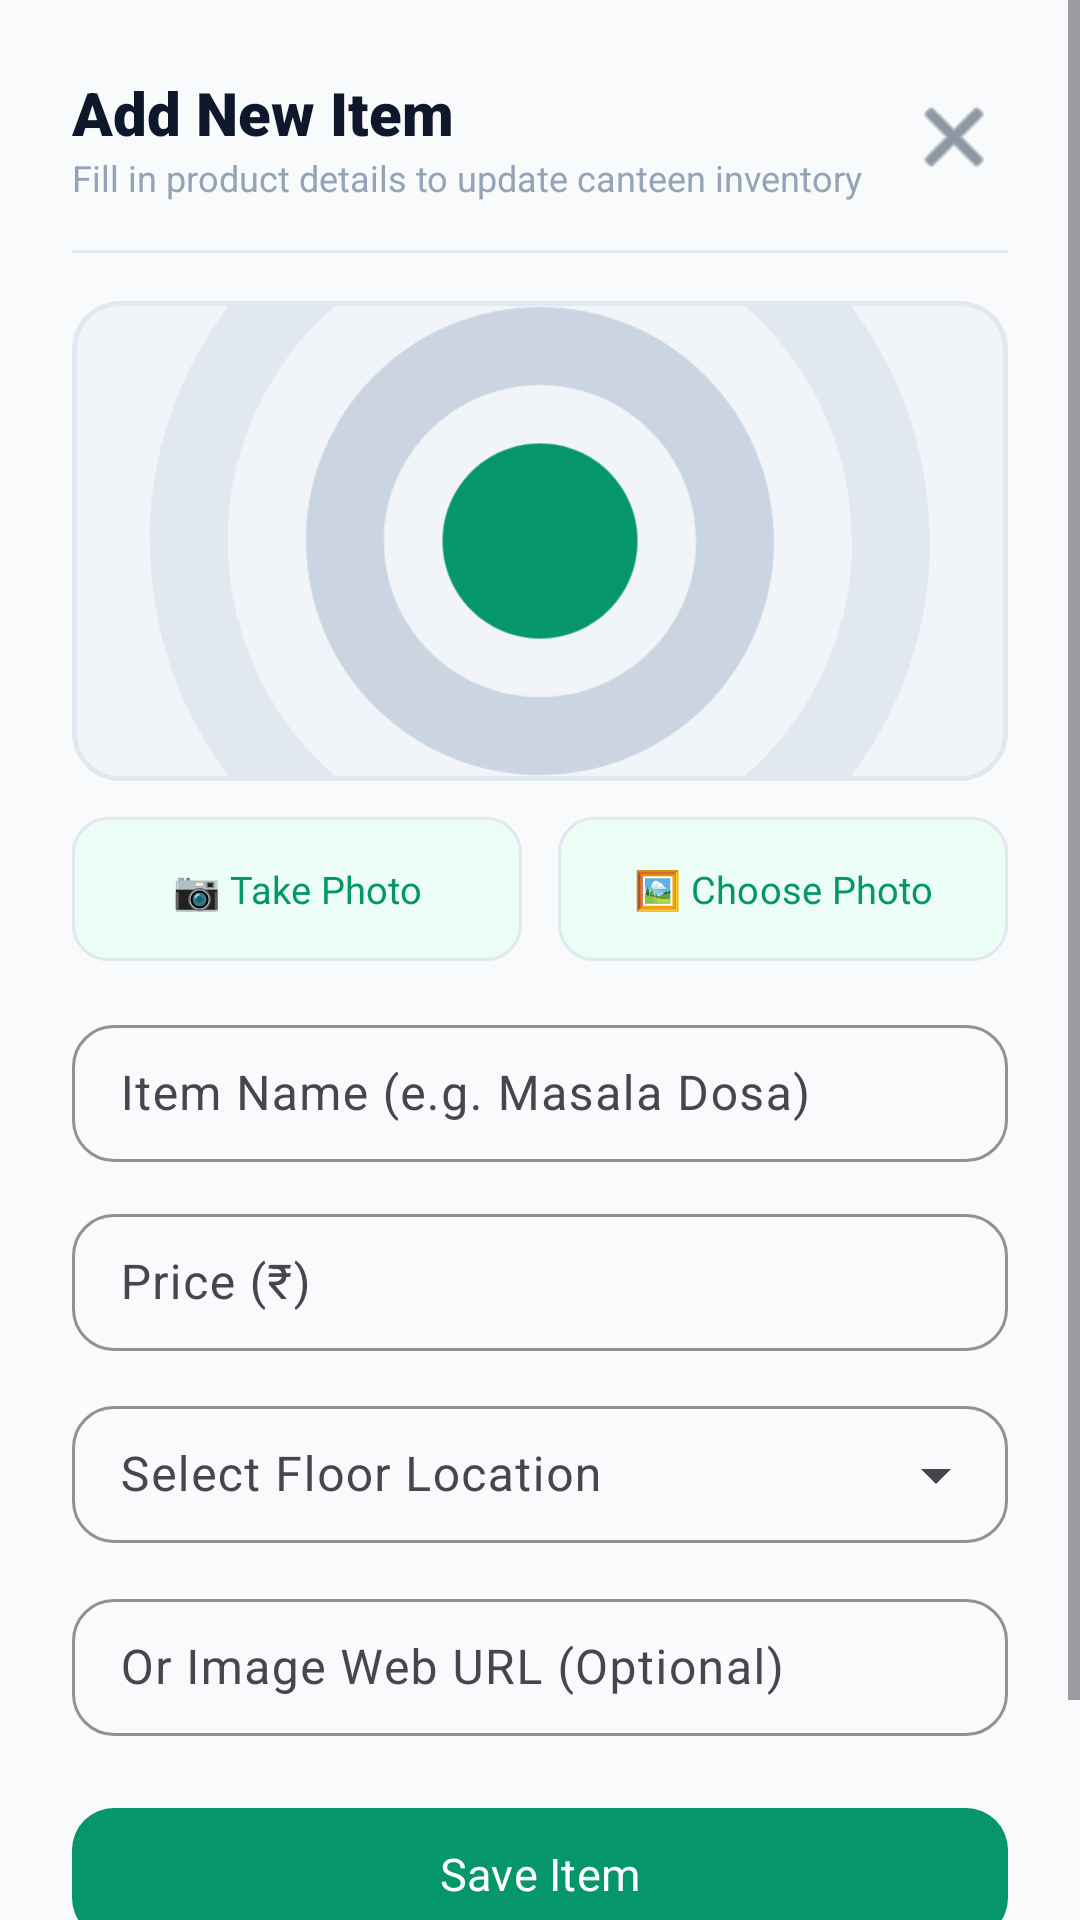

Icon click points for this 1080 × 1920 phone screenshot, format [x,y]:
Close Dialog: [954,137]
